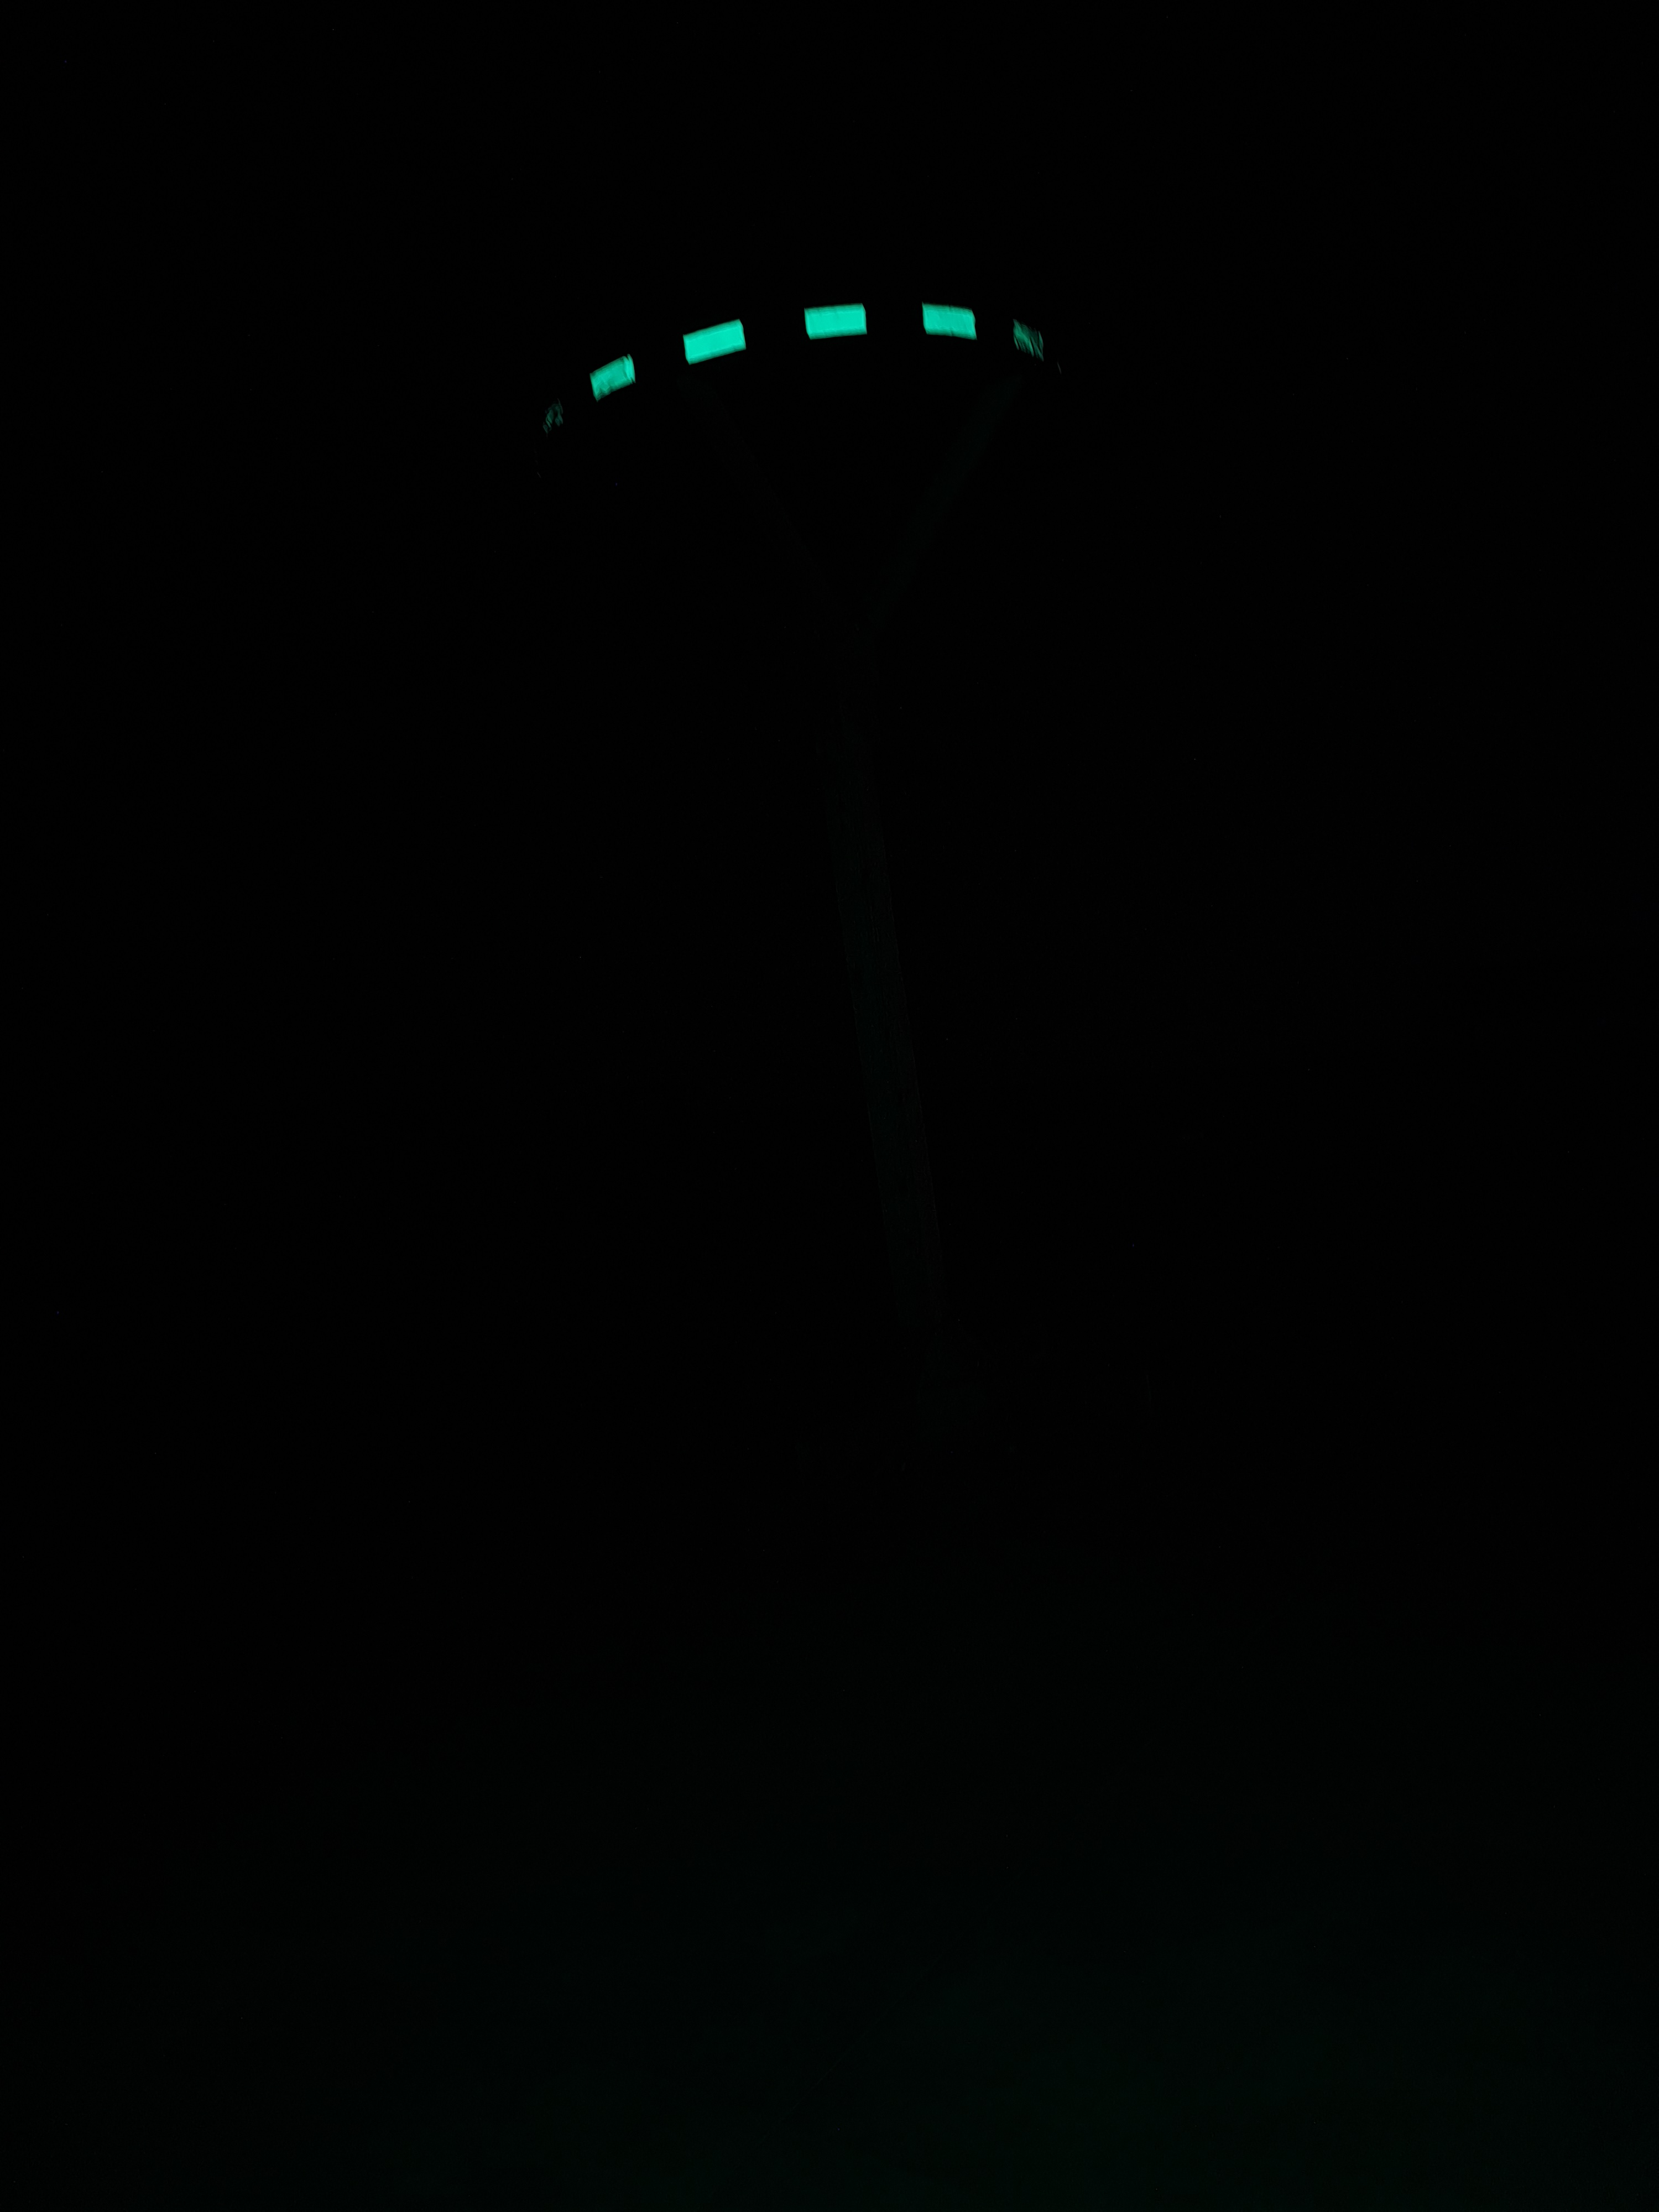hoop: (521, 298, 1056, 432)
